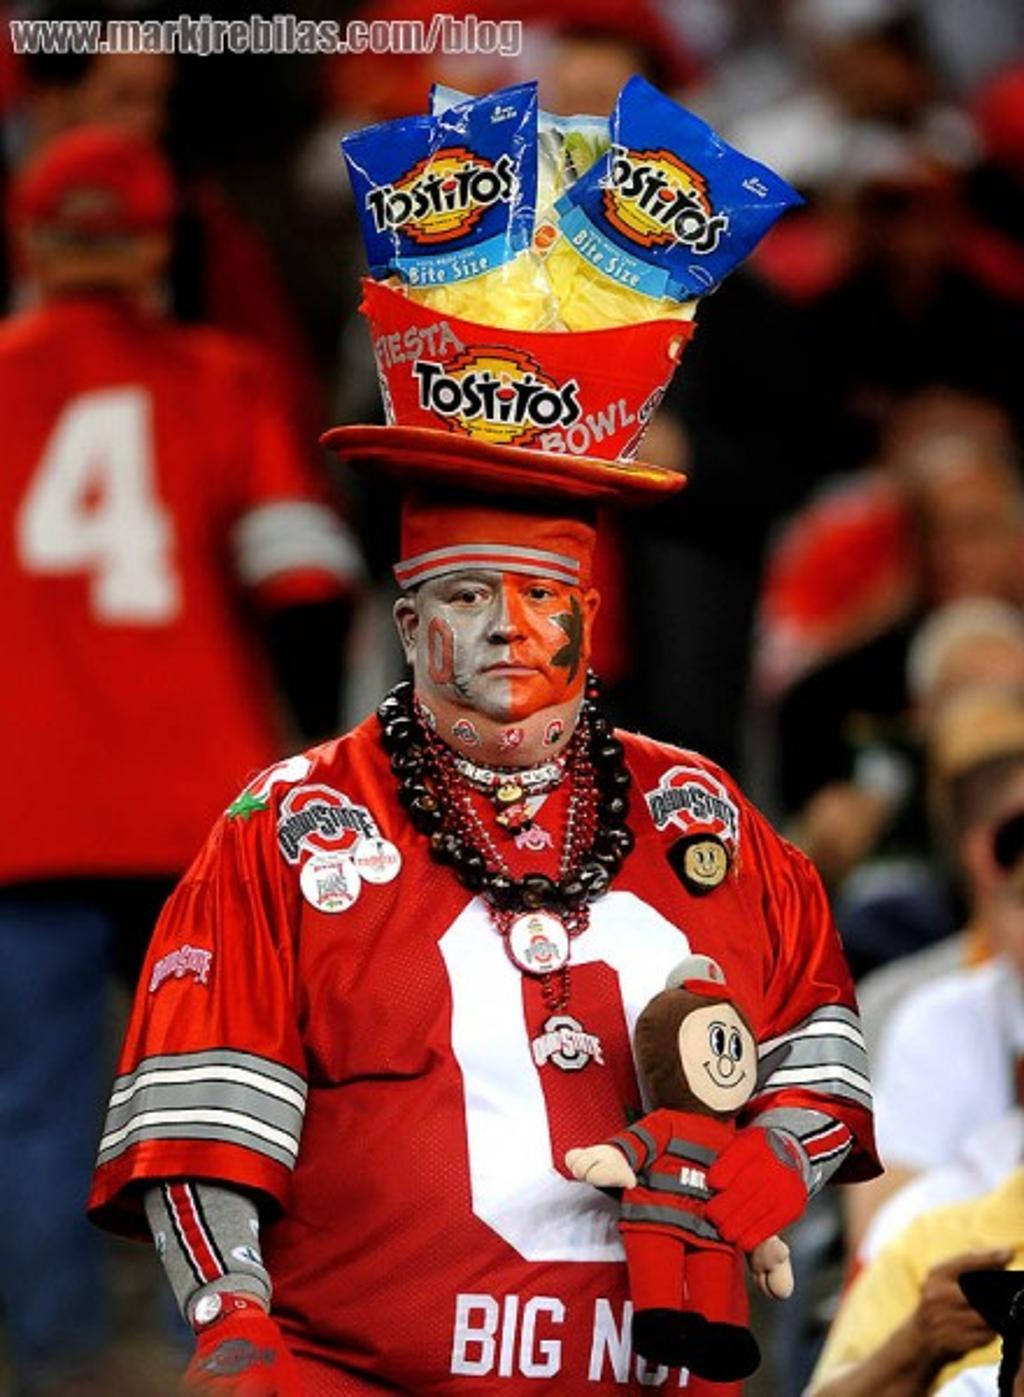face: (418, 530, 576, 721)
